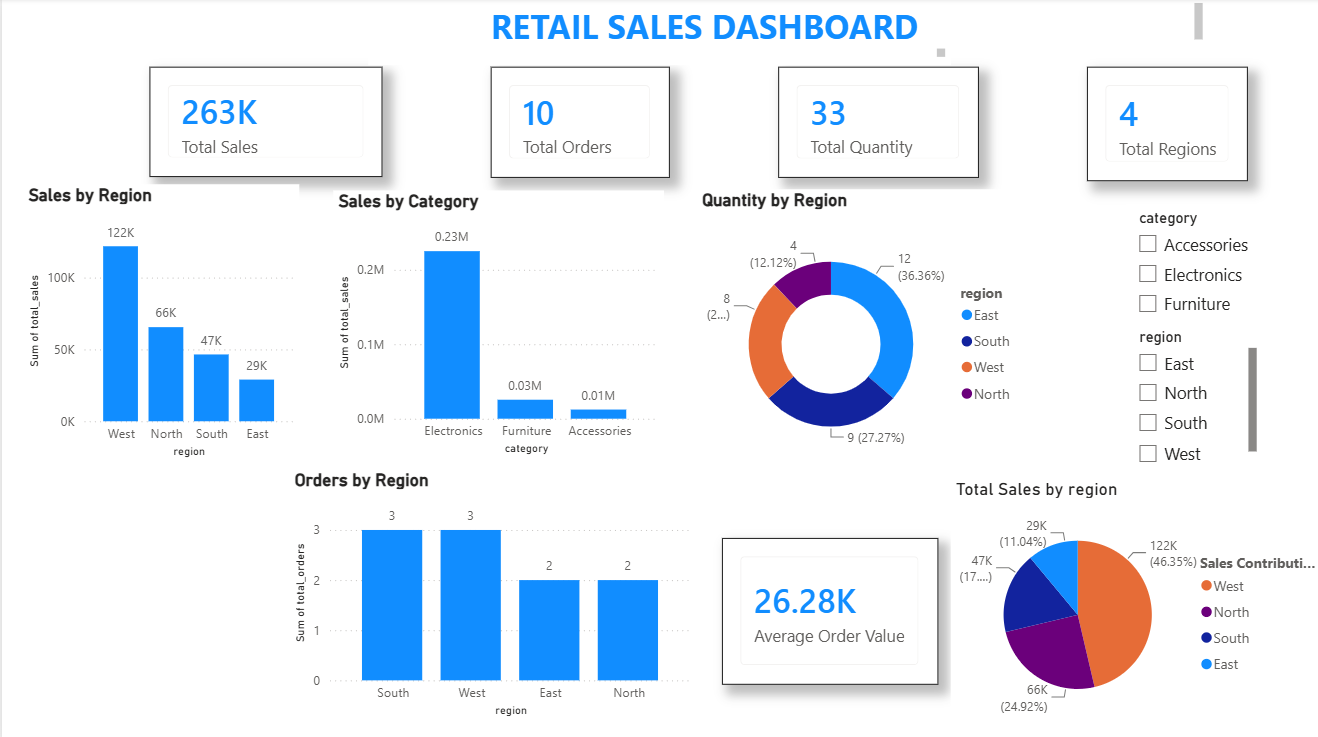

The dashboard page shown, as its layout file describes it:
{"tool":"powerbi","page":{"name":"Page 1","canvas":[1280,720],"ordinal":0},"visuals":[{"type":"cardVisual","fields":{"Data":["Sum(Retail_Sales_ETL_Pipeline.total_orders)"]},"box":[472.1,66.2,172.5,107.5],"z":0},{"type":"cardVisual","fields":{"Data":["Sum(Retail_Sales_ETL_Pipeline.total_quantity)"]},"box":[749.2,66.2,193.8,107.5],"z":1000},{"type":"cardVisual","fields":{"Data":["Sum(Retail_Sales_ETL_Pipeline.total_sales)"]},"box":[142.5,66.2,225,106.2],"z":2000},{"type":"cardVisual","fields":{"Data":["Retail_Sales_ETL_Pipeline.Total Regions"]},"box":[1047.5,66.2,155,110],"z":3000},{"type":"clusteredColumnChart","title":"Sales by Region","fields":{"Category":["Retail_Sales_ETL_Pipeline.region"],"Y":["Sum(Retail_Sales_ETL_Pipeline.total_sales)"]},"box":[20,180,266.2,268.8],"z":4000},{"type":"clusteredColumnChart","title":"Sales by Category","fields":{"Category":["Retail_Sales_ETL_Pipeline.category"],"Y":["Sum(Retail_Sales_ETL_Pipeline.total_sales)"]},"box":[319.6,185.6,319.2,260.3],"z":5000},{"type":"donutChart","title":"Quantity by Region","fields":{"Category":["Retail_Sales_ETL_Pipeline.region"],"Y":["Sum(Retail_Sales_ETL_Pipeline.total_quantity)"]},"box":[671.2,185,320,278.8],"z":6000},{"type":"clusteredColumnChart","title":"Orders by Region","fields":{"Category":["Retail_Sales_ETL_Pipeline.region"],"Y":["Sum(Retail_Sales_ETL_Pipeline.total_orders)"]},"box":[277.5,455,393.8,243.8],"z":7000},{"type":"slicer","fields":{"Values":["Retail_Sales_ETL_Pipeline.region"]},"box":[1085,313.8,131.2,141.2],"z":8000},{"type":"slicer","fields":{"Values":["Retail_Sales_ETL_Pipeline.category"]},"box":[1085,198.8,140,121.2],"z":9000},{"type":"textbox","box":[353.2,0,562,64.6],"z":10000},{"type":"cardVisual","fields":{"Data":["Retail_Sales_ETL_Pipeline.Average Order Value"]},"box":[695,521.2,208.8,141.2],"z":11000},{"type":"textbox","box":[88.8,552.5,23.8,12.5],"z":13000},{"type":"textbox","box":[310.3,0,853.8,48.7],"z":14000},{"type":"pieChart","fields":{"Category":["Retail_Sales_ETL_Pipeline.region"],"Y":["Retail_Sales_ETL_Pipeline.Total Sales"]},"box":[916.2,463.8,362.5,243.8],"z":14001},{"type":"textbox","box":[20,455,258,244],"z":14002}]}

Visuals, with their boxes in screenshot pixels (x1, y1, x2, y2), scaled from the page's 1280x720 canvas onto the 1318x737 screenshot:
cardVisual - Sum(Retail_Sales_ETL_Pipeline.total_orders): l=486, t=68, r=664, b=178
cardVisual - Sum(Retail_Sales_ETL_Pipeline.total_quantity): l=771, t=68, r=971, b=178
cardVisual - Sum(Retail_Sales_ETL_Pipeline.total_sales): l=147, t=68, r=378, b=176
cardVisual - Retail_Sales_ETL_Pipeline.Total Regions: l=1079, t=68, r=1238, b=180
"Sales by Region" clusteredColumnChart: l=21, t=184, r=295, b=459
"Sales by Category" clusteredColumnChart: l=329, t=190, r=658, b=456
"Quantity by Region" donutChart: l=691, t=189, r=1021, b=475
"Orders by Region" clusteredColumnChart: l=286, t=466, r=691, b=715
slicer - Retail_Sales_ETL_Pipeline.region: l=1117, t=321, r=1252, b=466
slicer - Retail_Sales_ETL_Pipeline.category: l=1117, t=203, r=1261, b=328
textbox: l=364, t=0, r=942, b=66
cardVisual - Retail_Sales_ETL_Pipeline.Average Order Value: l=716, t=534, r=931, b=678
textbox: l=91, t=566, r=116, b=578
textbox: l=320, t=0, r=1199, b=50
pieChart - Retail_Sales_ETL_Pipeline.region x Retail_Sales_ETL_Pipeline.Total Sales: l=943, t=475, r=1317, b=724
textbox: l=21, t=466, r=286, b=716
